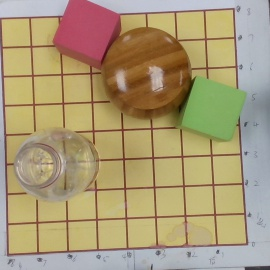bottle: (14, 130, 111, 200)
chess: (103, 29, 192, 118)
